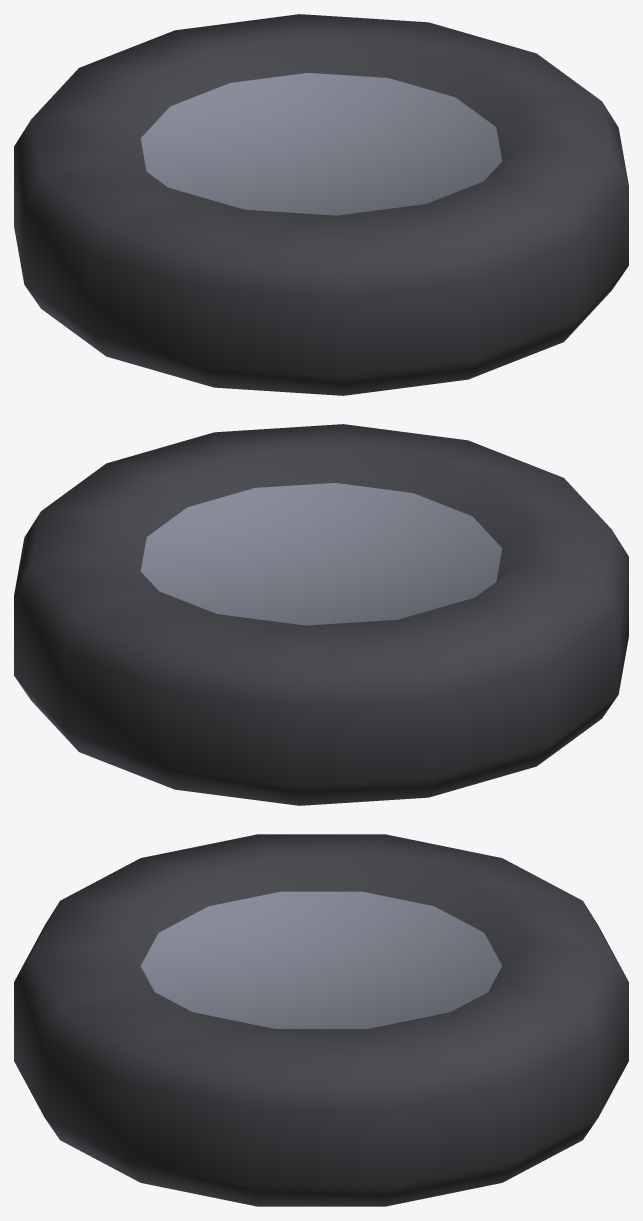
File: wheel.fbx
The picture shows the model from 3 angles, top to bottom: view 1: azimuth 30°, elevation 25°; view 2: azimuth 150°, elevation 25°; view 3: azimuth 270°, elevation 25°; orthographic projection.
Parts seen in each view (by area): view 1: Cylinder.004; view 2: Cylinder.004; view 3: Cylinder.004.
Part boxes in pixels (x1,y1,x2,y2): Cylinder.004: (14, 14, 628, 395); Cylinder.004: (14, 424, 628, 805); Cylinder.004: (14, 834, 628, 1206).
Size of the model in its own units: 98.13 by 26.34 by 101.
